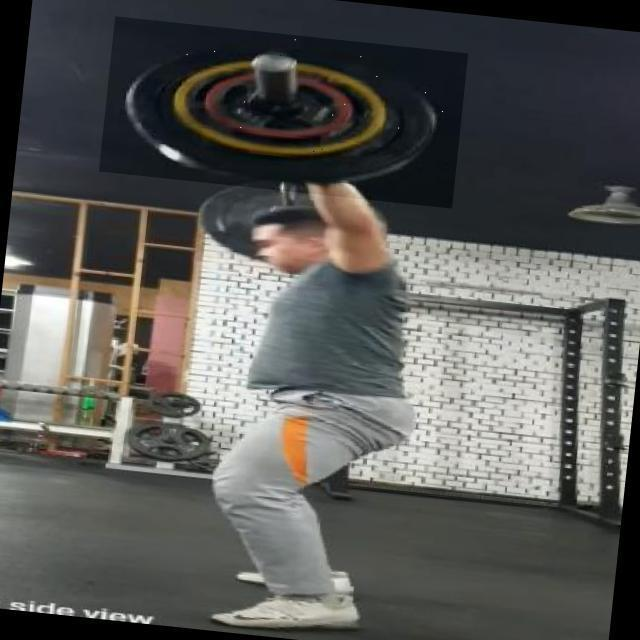barbell: (100, 17, 469, 209)
